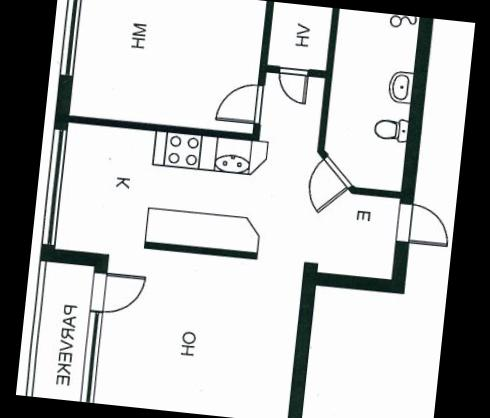door: (300, 152, 358, 217), (392, 198, 452, 254), (87, 267, 146, 318), (212, 76, 266, 128), (274, 64, 312, 107)
window: (38, 122, 71, 250), (77, 306, 108, 404), (54, 0, 88, 81)
